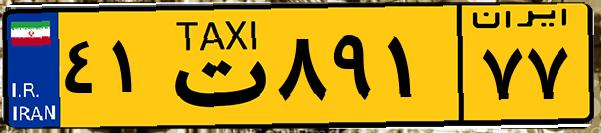1: (385, 28, 445, 110), (110, 28, 158, 98)
4: (57, 26, 110, 100)
7: (475, 38, 525, 113), (525, 38, 570, 115)
8: (270, 28, 330, 110)
9: (330, 28, 385, 110)
ت: (158, 12, 270, 120)
